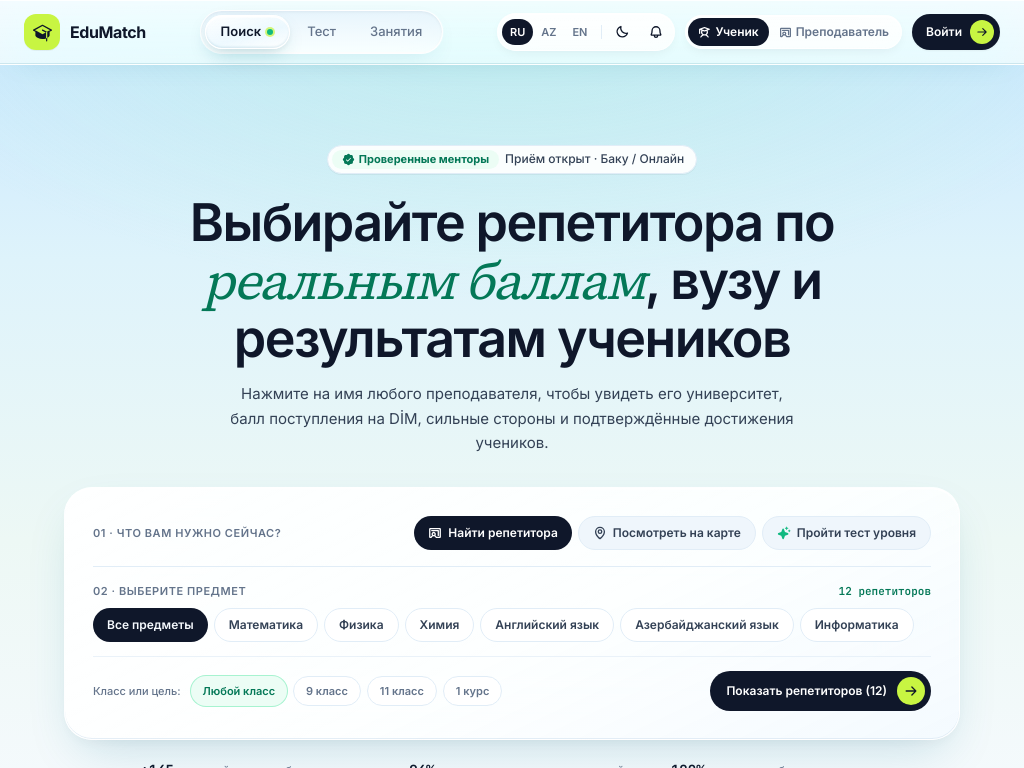
EduMatch Teacher Workflows, Modal Hygiene, and Normal UI Guarantees › supports progressive Hero intent/category selection and expandable catalog Filters drawer
Click the button "Математика" at (266, 625), box [214, 608, 318, 642]
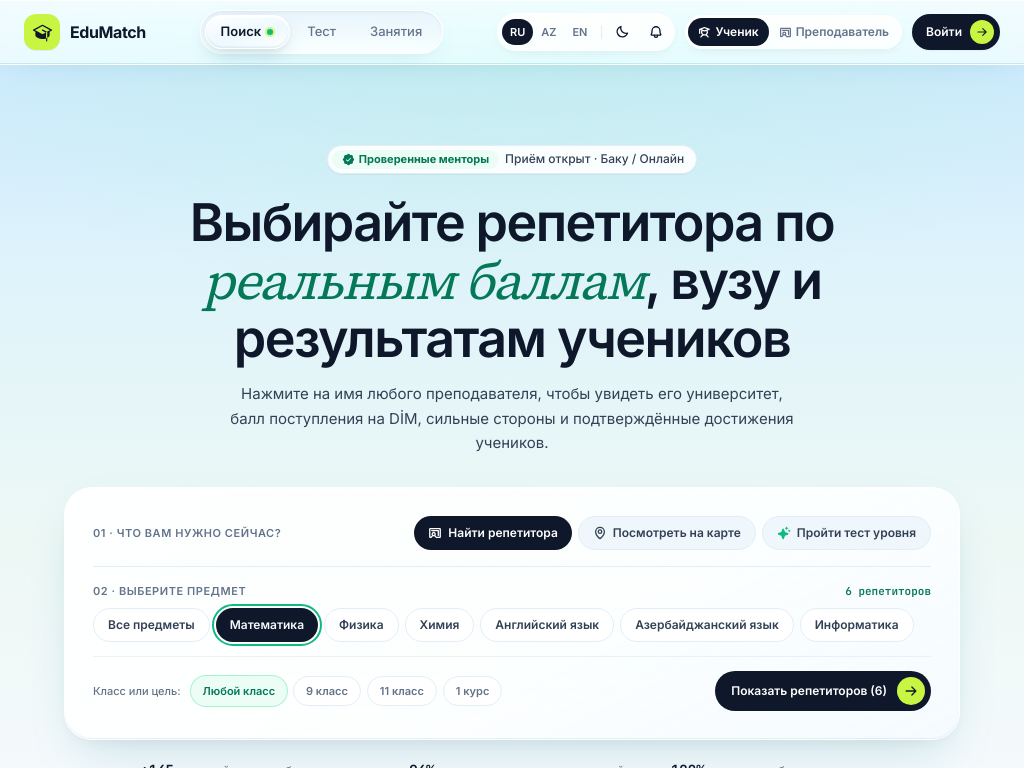
Click the button "9 класс" at (327, 691), box [293, 676, 361, 706]
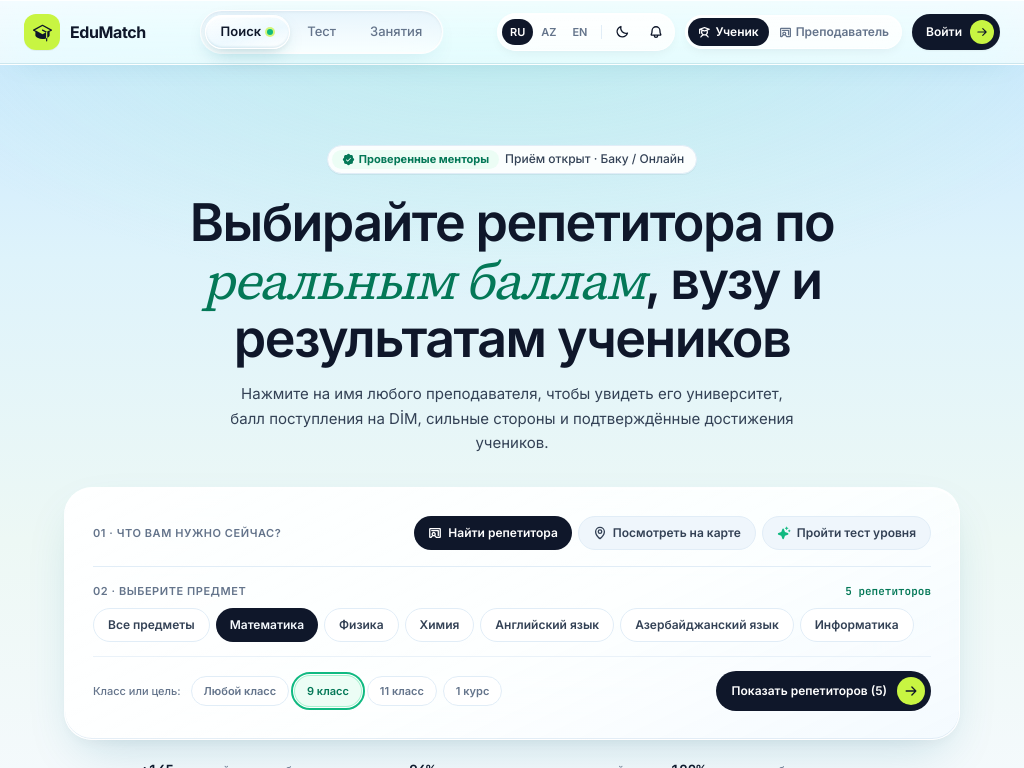
Click the button "Показать репетиторов (5)" at (823, 691), box [716, 671, 931, 711]
(page scrolled)
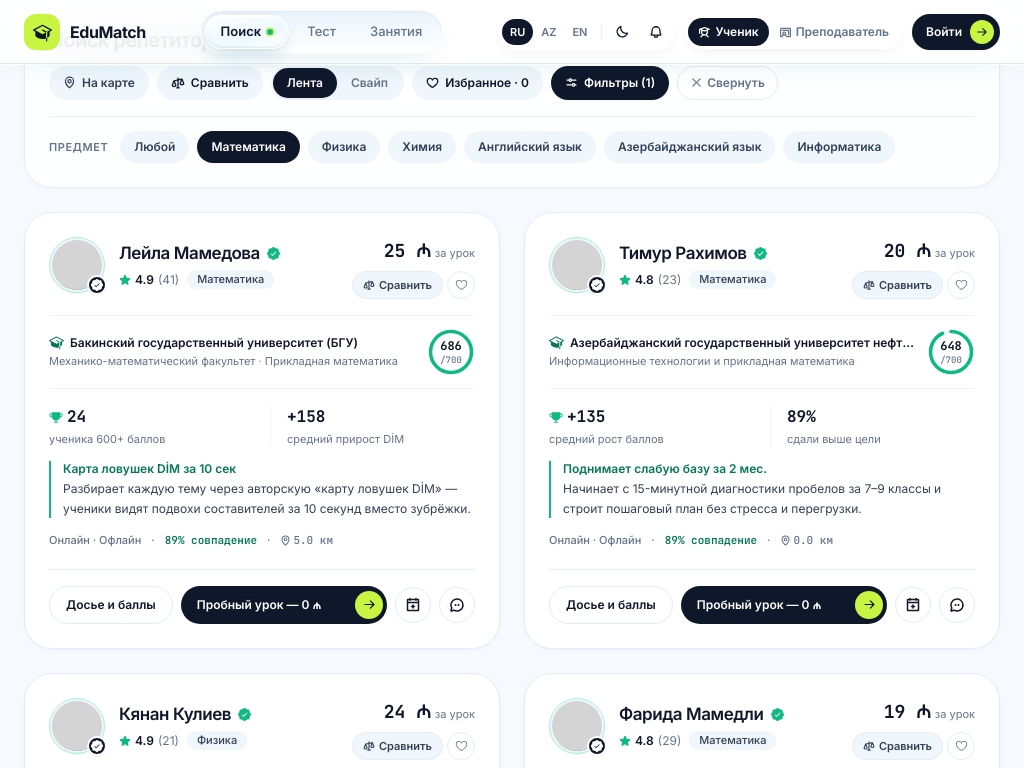
Expected: the text "Стиль преподавания" is not shown
Click the button "Фильтры (1)" at (610, 83), box [551, 66, 669, 100]
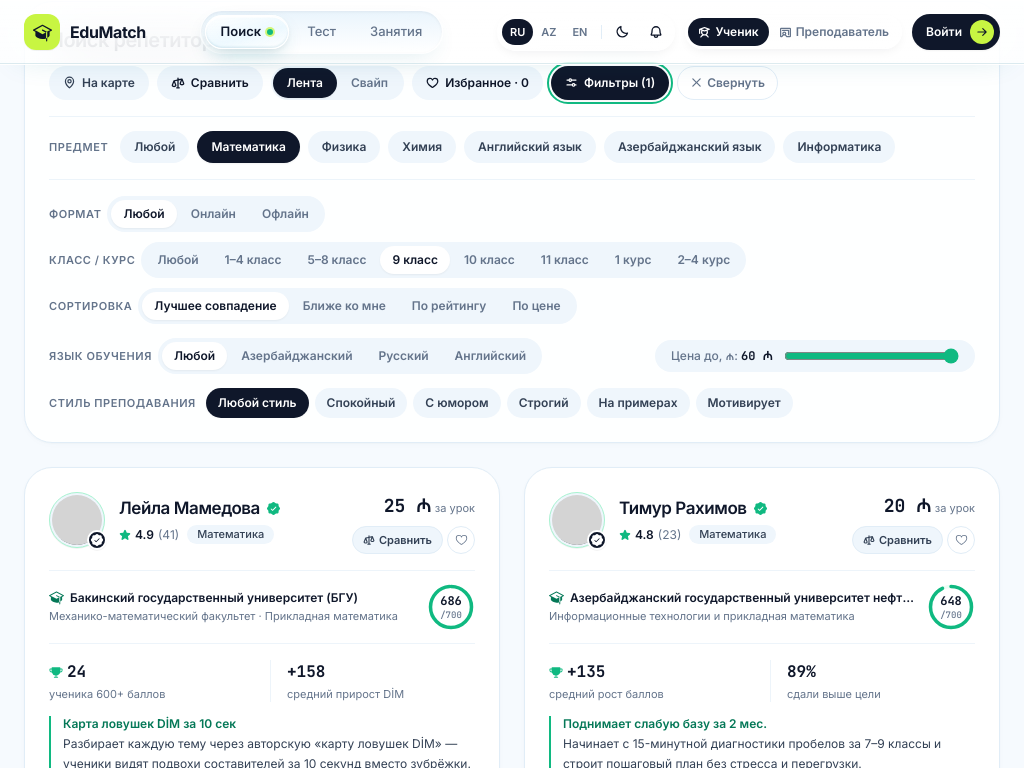
Expected: the text "Стиль преподавания" is shown, [49, 395, 196, 411]
